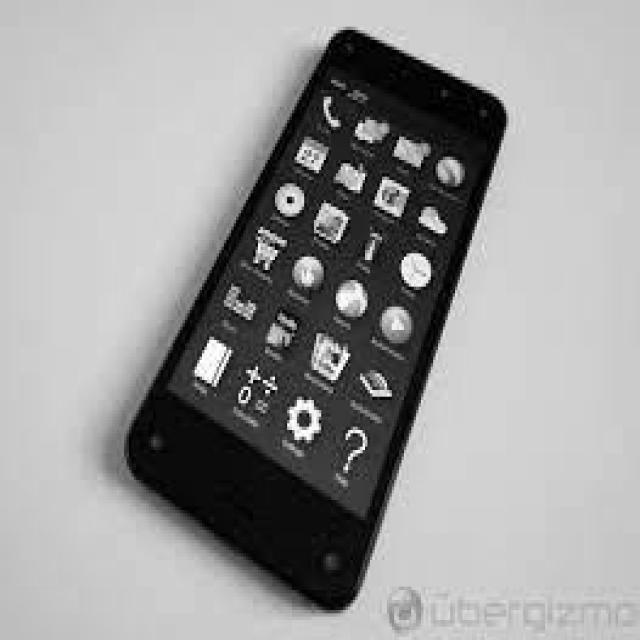No gun_phone: (130, 33, 506, 612)
